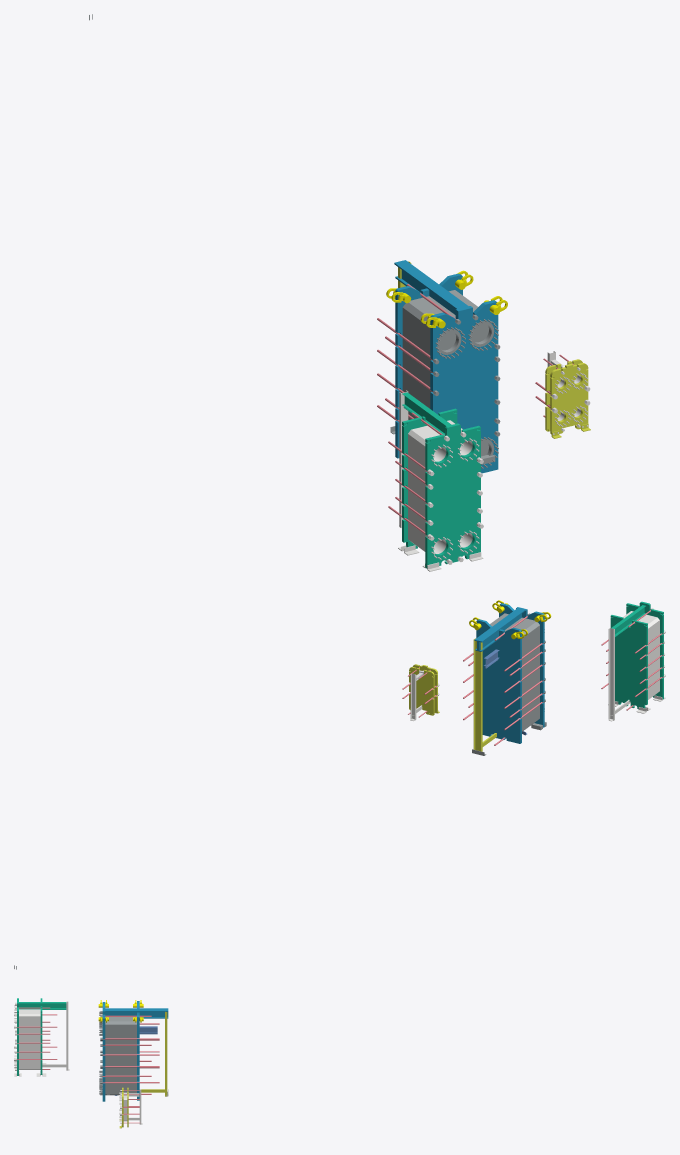
Rendered from engineer_comby-07.glb.
3 views of the same model, one above another, from view 1: azimuth 30°, elevation 25°; view 2: azimuth 150°, elevation 25°; view 3: azimuth 270°, elevation 25° (orthographic). The views are drawn at different scales.
Parts seen in each view (by area): view 1: L_20ea5424_6e76_463a_a9a7_6a8618ab3245_I3, L_39127440_bf9f_4af6_9c82_c5ece4f3a2be_I6, L_3807ebf7_ccdf_4521_b72d_69fbecacf36e_I6, L_7ced0e6b_f229_4d24_871e_c41d6f81af1f_I9, L_e9d48f22_5316_43b5_afc6_7780e57c6915_I12.001, L_8dc1eea1_a72e_4271_997e_4fa5cf3de57c_I17, L_f4585978_6d9e_4e16_a8f7_c727437497d6_I23, L_162bd5d2_1a15_4798_ba48_6523fc2de6e2_I3, L_726214f9_5d5d_4e06_9136_cd39c09943dc_I12; view 2: L_8dc1eea1_a72e_4271_997e_4fa5cf3de57c_I17, L_162bd5d2_1a15_4798_ba48_6523fc2de6e2_I3, L_3807ebf7_ccdf_4521_b72d_69fbecacf36e_I6, L_2c1c9a12_37b2_4a8b_841c_917191ef50aa_I5, L_7ced0e6b_f229_4d24_871e_c41d6f81af1f_I9, L_d1642e4c_9217_4d68_8968_5aba628788cd_I10.001, L_726214f9_5d5d_4e06_9136_cd39c09943dc_I12, L_20ea5424_6e76_463a_a9a7_6a8618ab3245_I3, L_f4585978_6d9e_4e16_a8f7_c727437497d6_I23, L_ccf9d600_8c00_4b73_a1eb_30f42dfc8c7d_I12.001, L_39127440_bf9f_4af6_9c82_c5ece4f3a2be_I6; view 3: L_3807ebf7_ccdf_4521_b72d_69fbecacf36e_I6, L_7ced0e6b_f229_4d24_871e_c41d6f81af1f_I9, L_726214f9_5d5d_4e06_9136_cd39c09943dc_I12, L_f4585978_6d9e_4e16_a8f7_c727437497d6_I23, L_79b6e457_47dd_421c_9863_9f8bab91f3a9_I8, L_20ea5424_6e76_463a_a9a7_6a8618ab3245_I3, L_50cd1da1_81e6_44b4_9e31_6da2080704c2_I7.001, L_2c1c9a12_37b2_4a8b_841c_917191ef50aa_I5, L_8dc1eea1_a72e_4271_997e_4fa5cf3de57c_I17.
Part boxes in pixels (box(x1,y1,x2,y2)): L_20ea5424_6e76_463a_a9a7_6a8618ab3245_I3: box(430, 300, 498, 473); L_39127440_bf9f_4af6_9c82_c5ece4f3a2be_I6: box(425, 423, 480, 568); L_3807ebf7_ccdf_4521_b72d_69fbecacf36e_I6: box(402, 290, 488, 456); L_7ced0e6b_f229_4d24_871e_c41d6f81af1f_I9: box(408, 420, 472, 553); L_e9d48f22_5316_43b5_afc6_7780e57c6915_I12.001: box(550, 363, 588, 434); L_8dc1eea1_a72e_4271_997e_4fa5cf3de57c_I17: box(395, 273, 462, 458); L_f4585978_6d9e_4e16_a8f7_c727437497d6_I23: box(394, 260, 468, 314); L_162bd5d2_1a15_4798_ba48_6523fc2de6e2_I3: box(402, 408, 457, 548); L_726214f9_5d5d_4e06_9136_cd39c09943dc_I12: box(377, 284, 473, 421); L_8dc1eea1_a72e_4271_997e_4fa5cf3de57c_I17: box(476, 619, 521, 743); L_162bd5d2_1a15_4798_ba48_6523fc2de6e2_I3: box(610, 615, 647, 709); L_3807ebf7_ccdf_4521_b72d_69fbecacf36e_I6: box(490, 613, 539, 731); L_2c1c9a12_37b2_4a8b_841c_917191ef50aa_I5: box(473, 638, 496, 751); L_7ced0e6b_f229_4d24_871e_c41d6f81af1f_I9: box(623, 611, 659, 699); L_d1642e4c_9217_4d68_8968_5aba628788cd_I10.001: box(409, 667, 434, 715); L_726214f9_5d5d_4e06_9136_cd39c09943dc_I12: box(463, 615, 543, 745); L_20ea5424_6e76_463a_a9a7_6a8618ab3245_I3: box(499, 603, 544, 727); L_f4585978_6d9e_4e16_a8f7_c727437497d6_I23: box(474, 608, 524, 651); L_ccf9d600_8c00_4b73_a1eb_30f42dfc8c7d_I12.001: box(608, 628, 614, 721); L_39127440_bf9f_4af6_9c82_c5ece4f3a2be_I6: box(626, 601, 663, 699); L_3807ebf7_ccdf_4521_b72d_69fbecacf36e_I6: box(105, 1017, 136, 1095); L_7ced0e6b_f229_4d24_871e_c41d6f81af1f_I9: box(19, 1009, 40, 1069); L_726214f9_5d5d_4e06_9136_cd39c09943dc_I12: box(102, 1015, 159, 1094); L_f4585978_6d9e_4e16_a8f7_c727437497d6_I23: box(105, 1008, 168, 1018); L_79b6e457_47dd_421c_9863_9f8bab91f3a9_I8: box(17, 1007, 57, 1069); L_20ea5424_6e76_463a_a9a7_6a8618ab3245_I3: box(102, 1002, 105, 1101); L_50cd1da1_81e6_44b4_9e31_6da2080704c2_I7.001: box(19, 1002, 66, 1009); L_2c1c9a12_37b2_4a8b_841c_917191ef50aa_I5: box(141, 1012, 167, 1096); L_8dc1eea1_a72e_4271_997e_4fa5cf3de57c_I17: box(137, 1001, 139, 1100).
Size of the model in its own units: 6.9 by 3.66 by 24.77.
